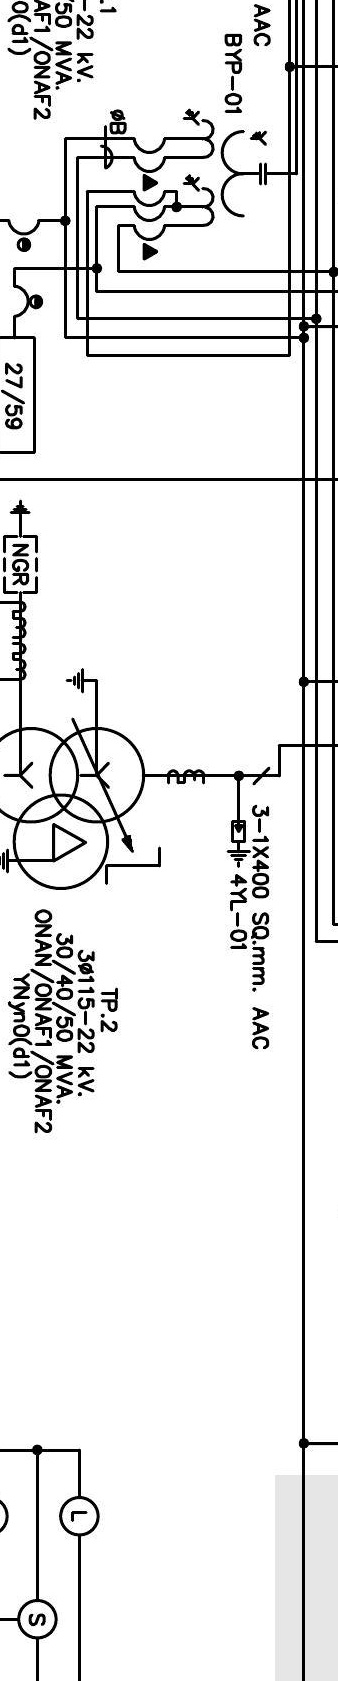115_cvt_3p: (181, 107, 267, 227)
115_la: (225, 820, 252, 868)
NGR_future: (2, 500, 39, 594)
